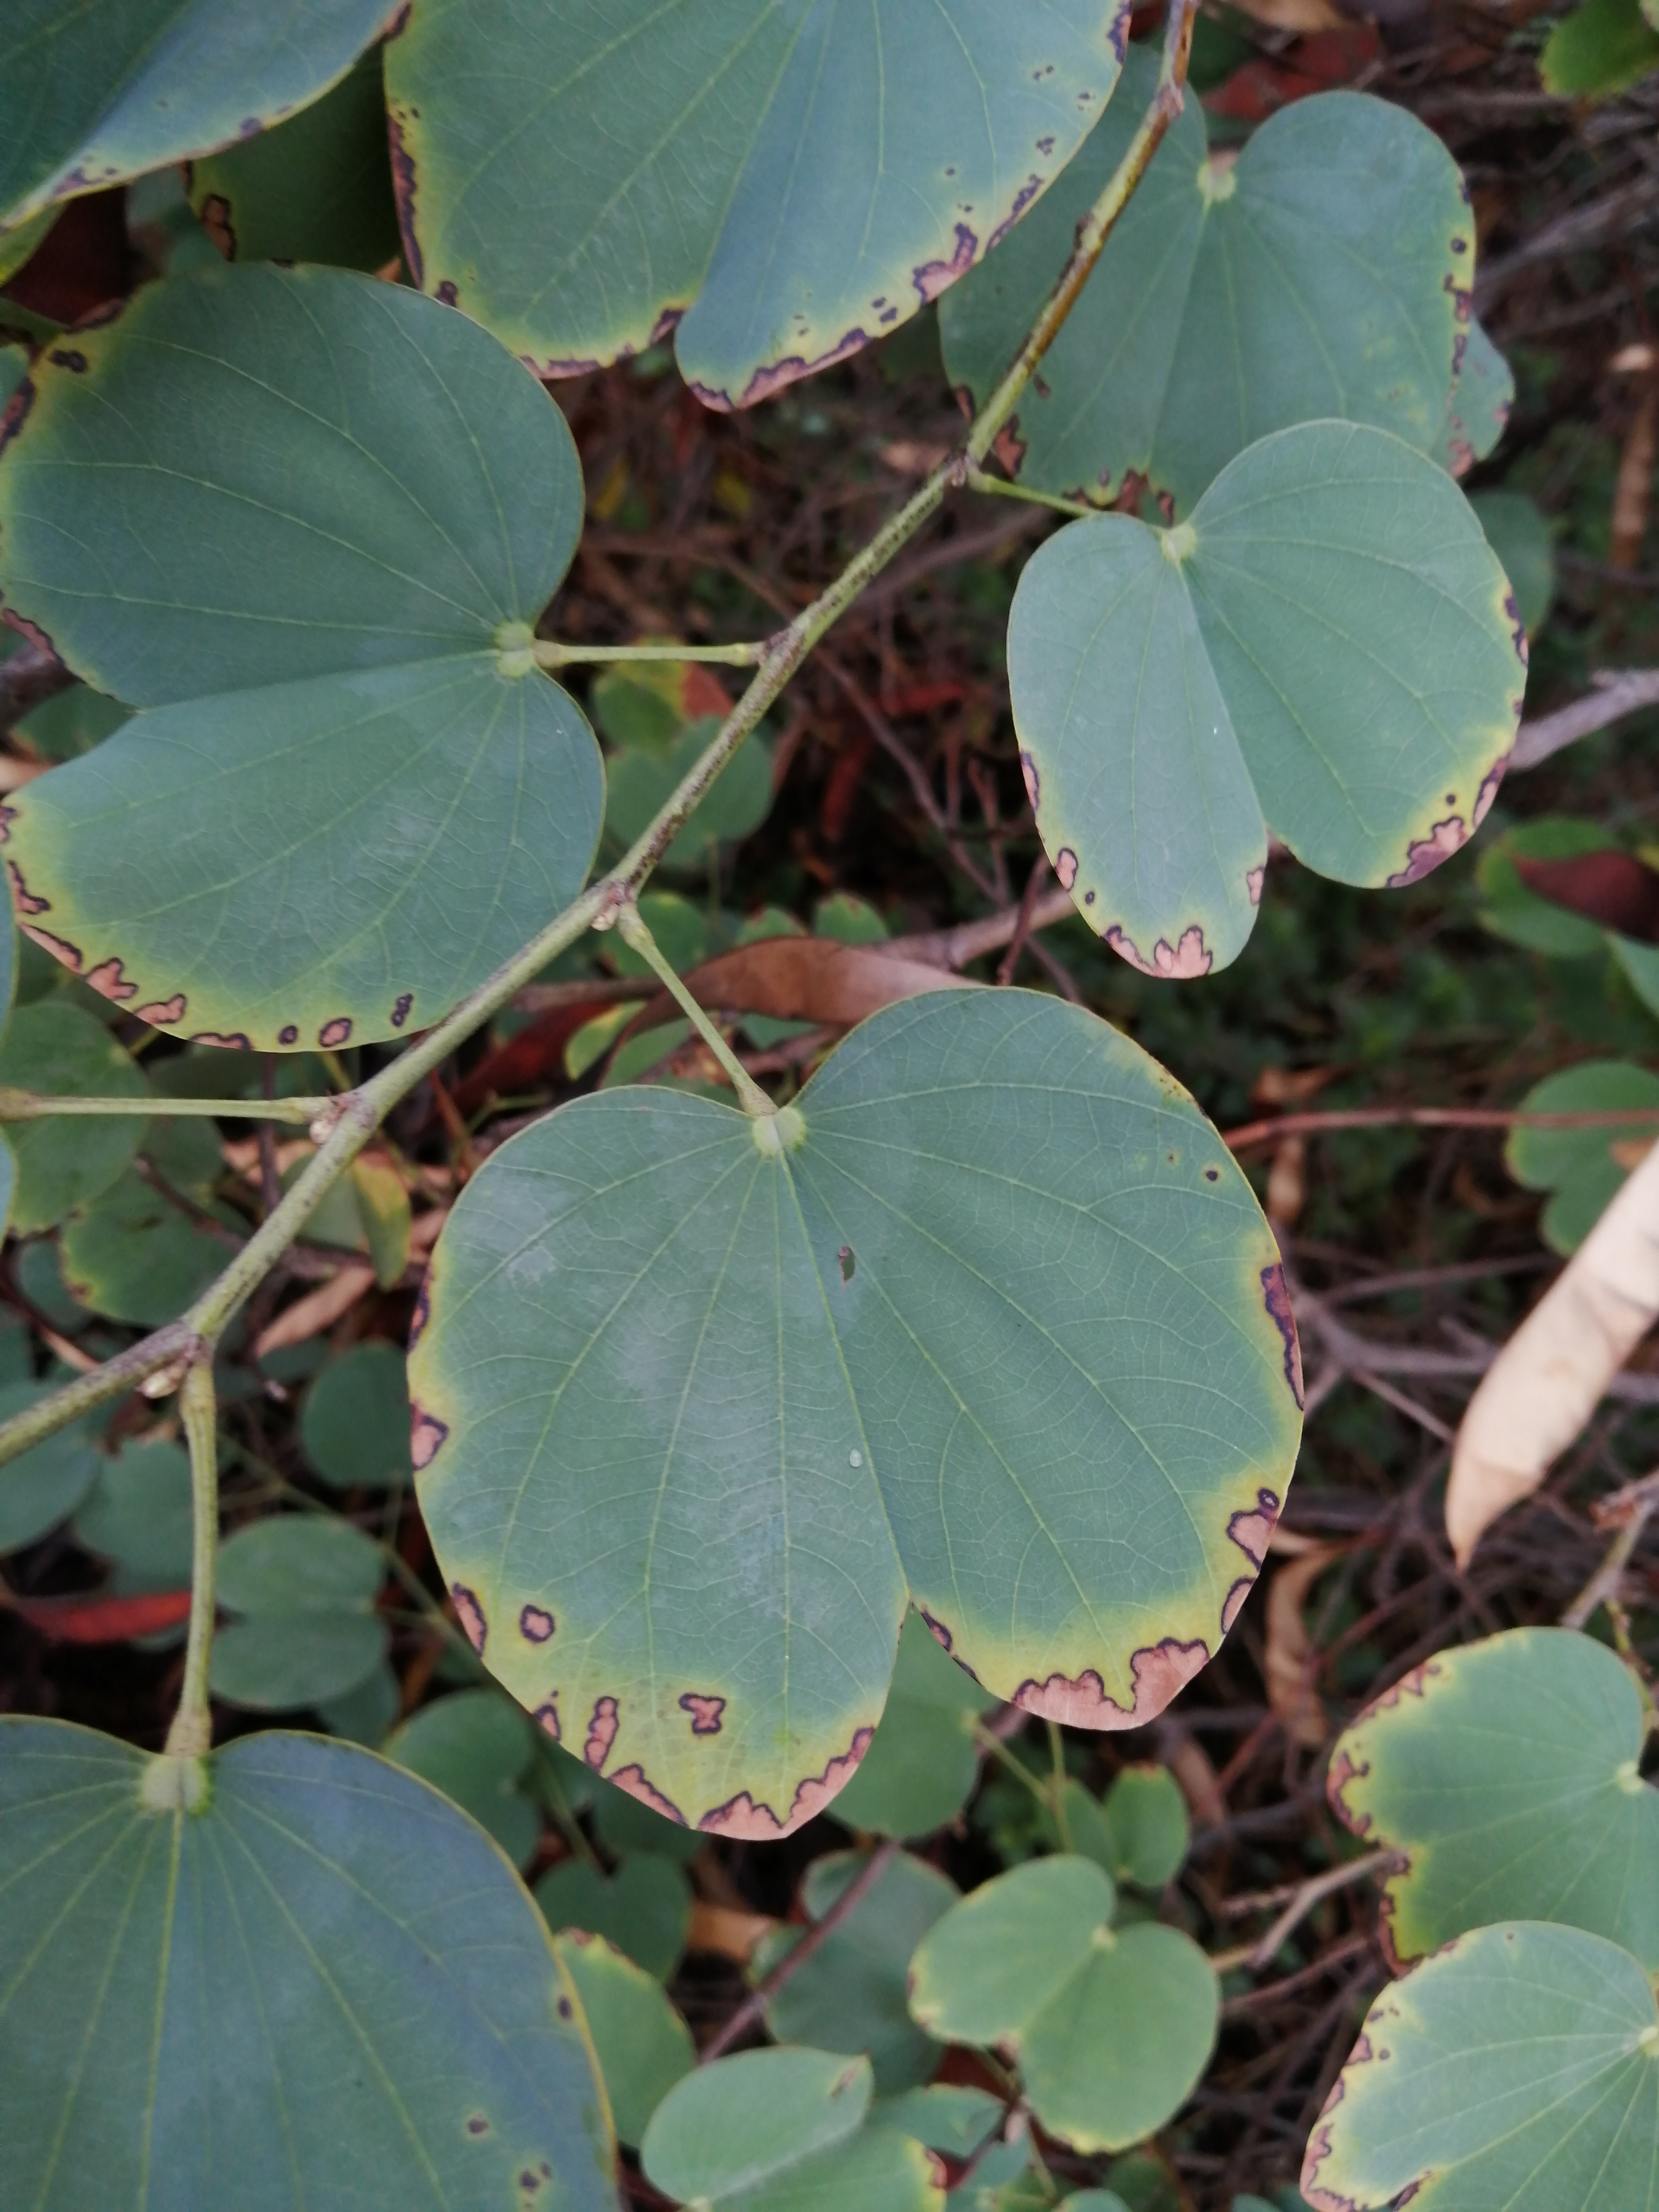nothealthy: (376, 965, 1307, 1864), (0, 265, 612, 1078), (352, 9, 1162, 430), (990, 406, 1535, 995), (1307, 1616, 1656, 2029)
